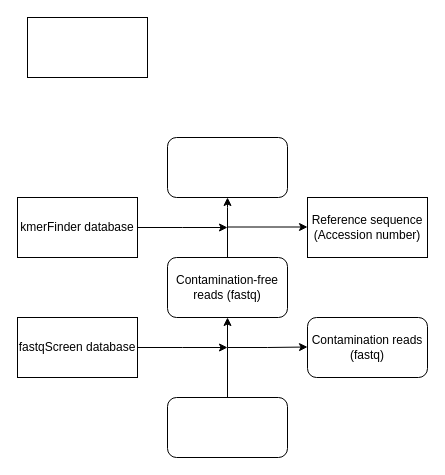
Image size: 445x475. Some labels were removed from this diagram. The shapes that lost their labels are listed below. From the top down, each one's centre as x and y in pixels, then its label:
At (x=87, y=47): "CARD database".
At (x=227, y=427): "Raw fastq files".
